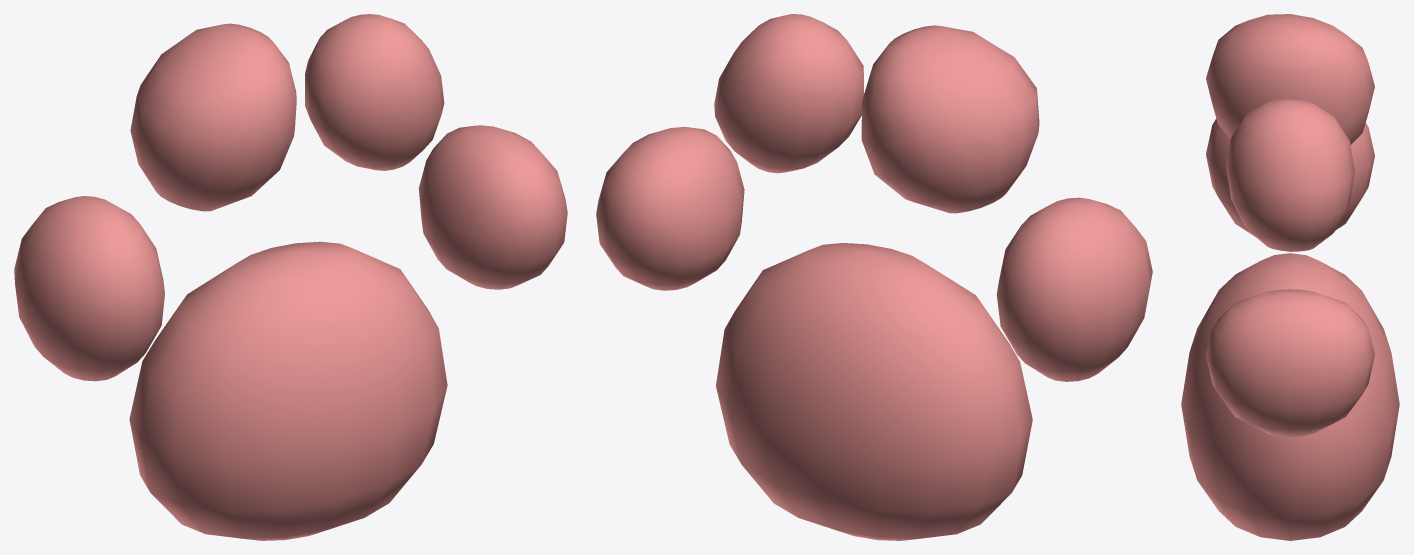
Rendered from Jelly_VFX.fbx.
3 views of the same model, side by side, from view 1: azimuth 30°, elevation 25°; view 2: azimuth 150°, elevation 25°; view 3: azimuth 270°, elevation 25° (orthographic). The views are drawn at different scales.
Parts seen in each view (by area): view 1: Jelly.001; view 2: Jelly.001; view 3: Jelly.001.
Boxes of the visible parts, x1=… form: Jelly.001: x1=14, y1=14, x2=567, y2=540; Jelly.001: x1=596, y1=14, x2=1152, y2=540; Jelly.001: x1=1181, y1=14, x2=1399, y2=540.
Bounding box in the file's own units: 1.78 × 1.63 × 0.6863.
